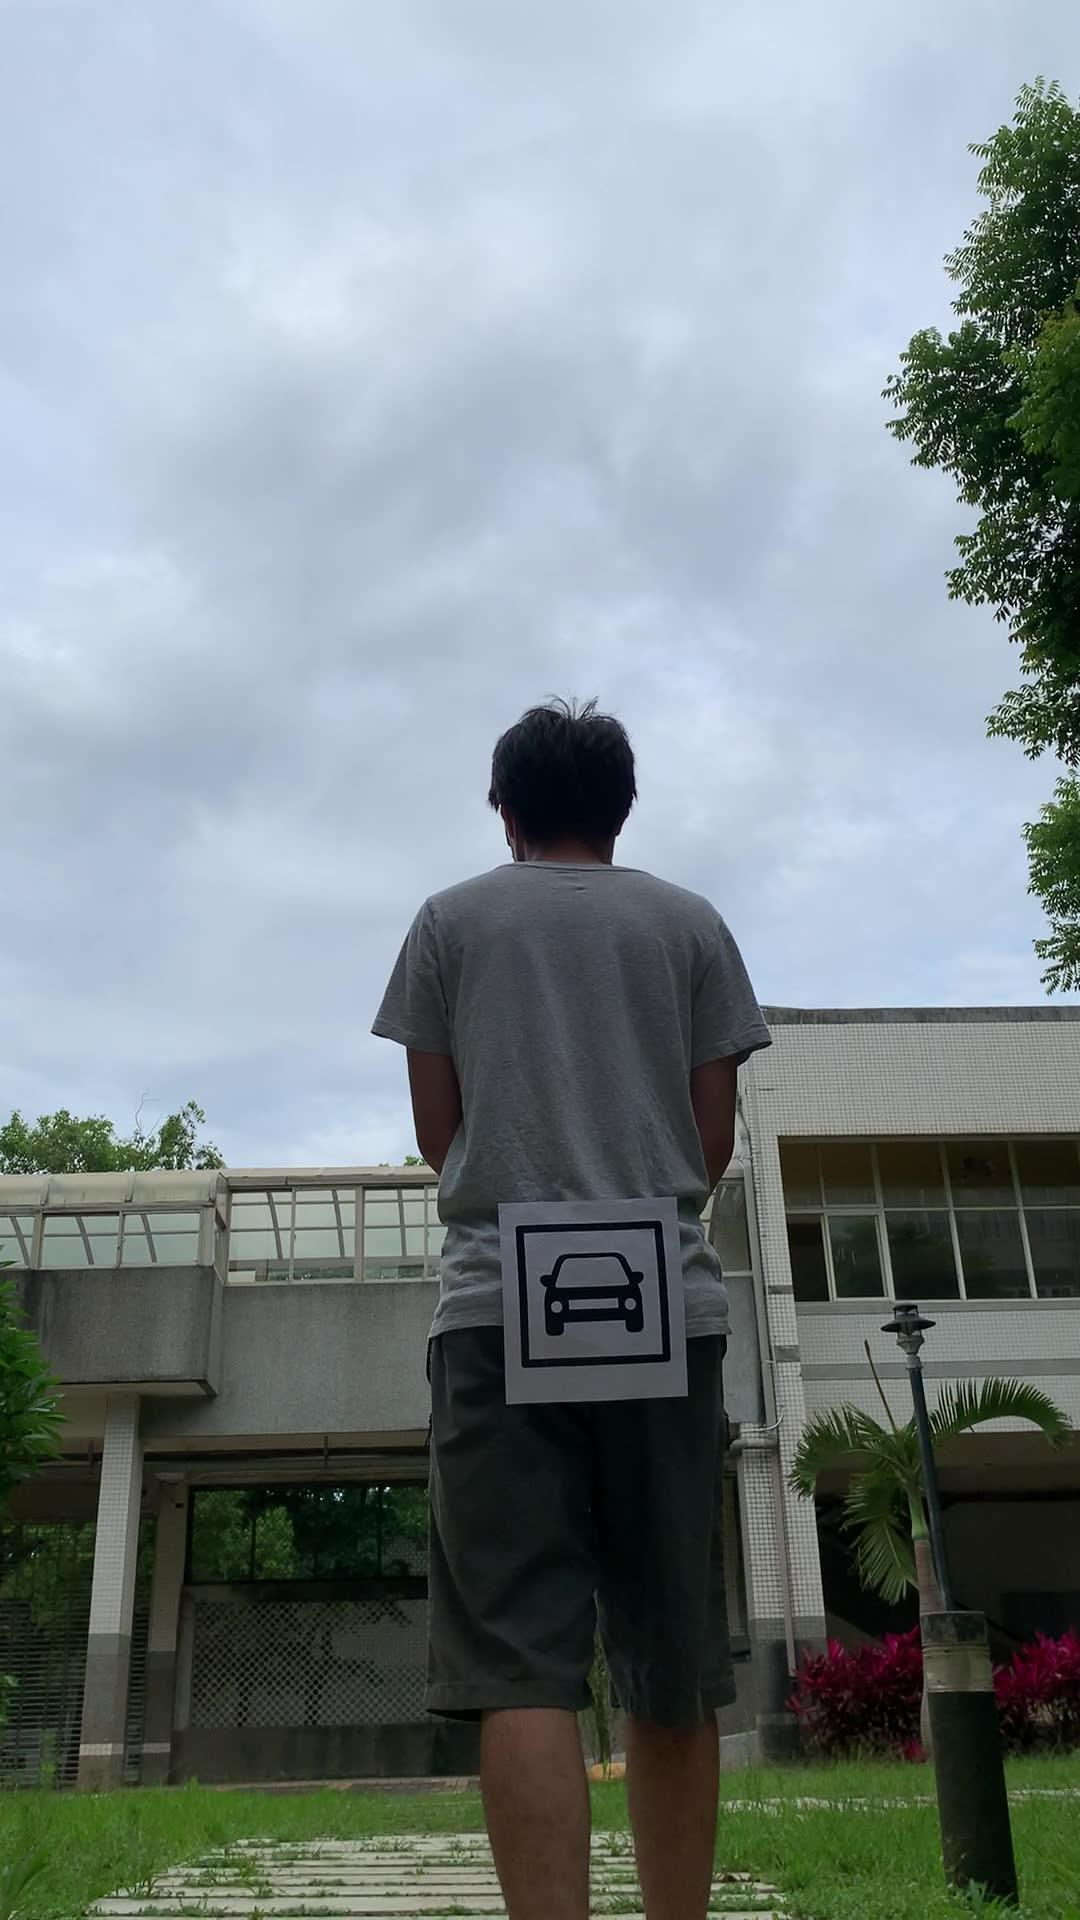car_img: (516, 1220, 673, 1369)
